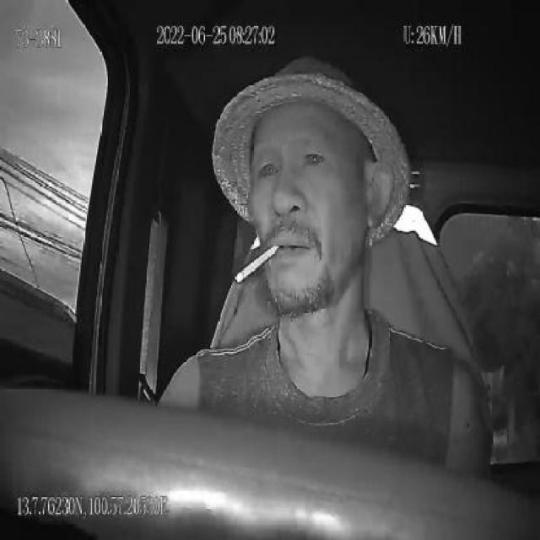smoking: (234, 242, 279, 283)
